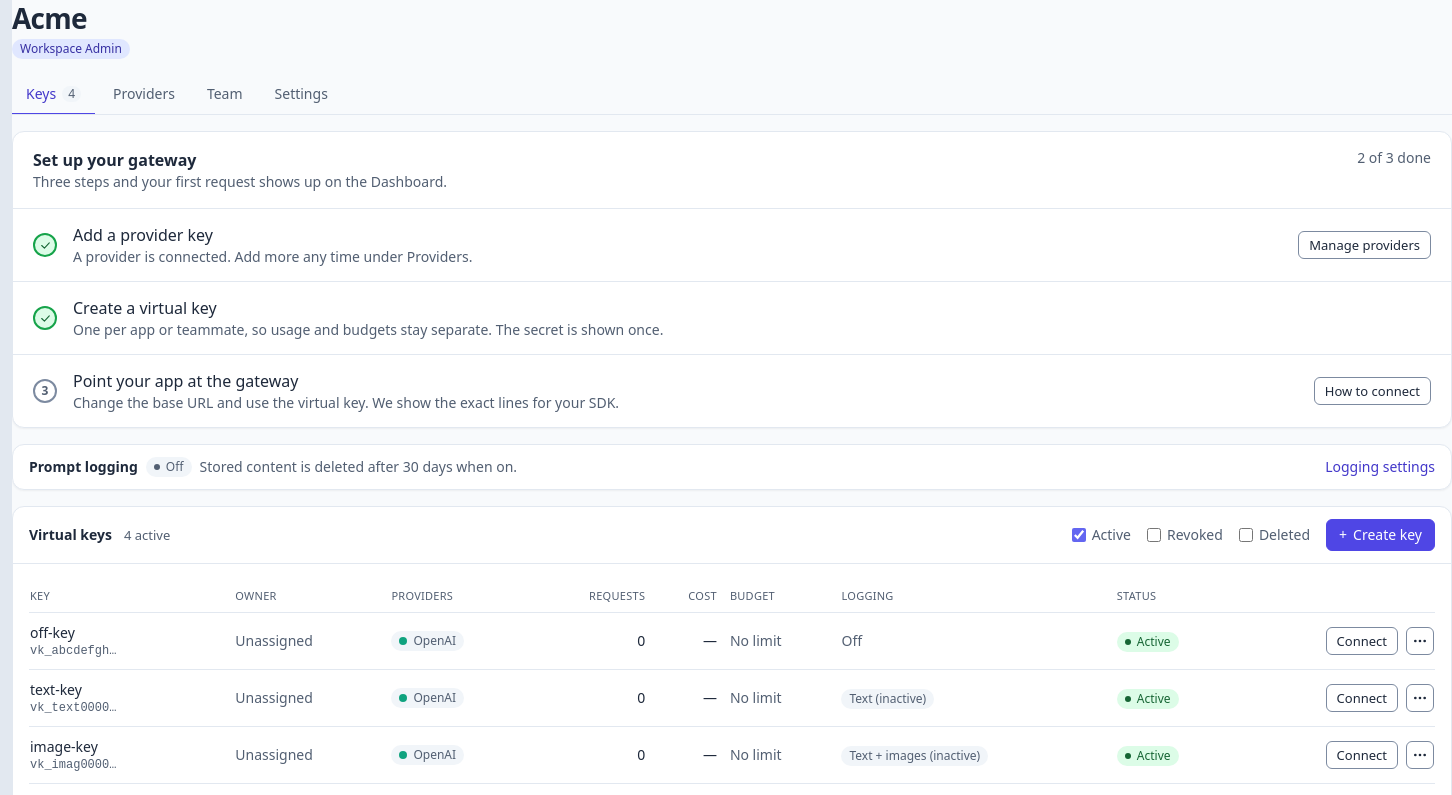
Workspace -> per-key logging › warns inside the editor when a master switch is off, and explains that turning off stops new capture only
Click the button named "More actions for text-key".
click(1420, 698)  # box top-left (1406, 684), bottom-right (1434, 712)
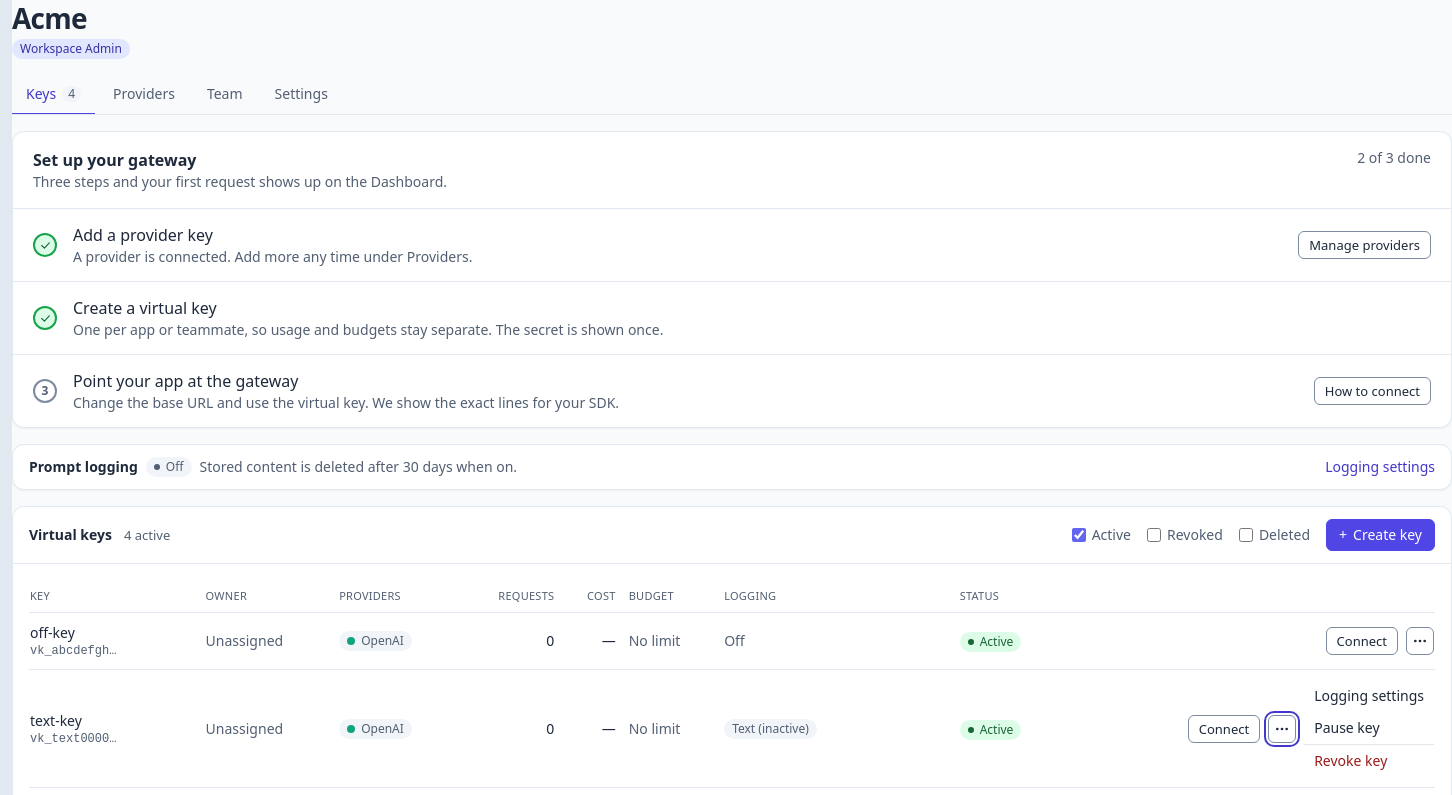
Click the menu item "Logging settings".
click(1369, 696)  # box top-left (1314, 686), bottom-right (1424, 705)
(page scrolled)
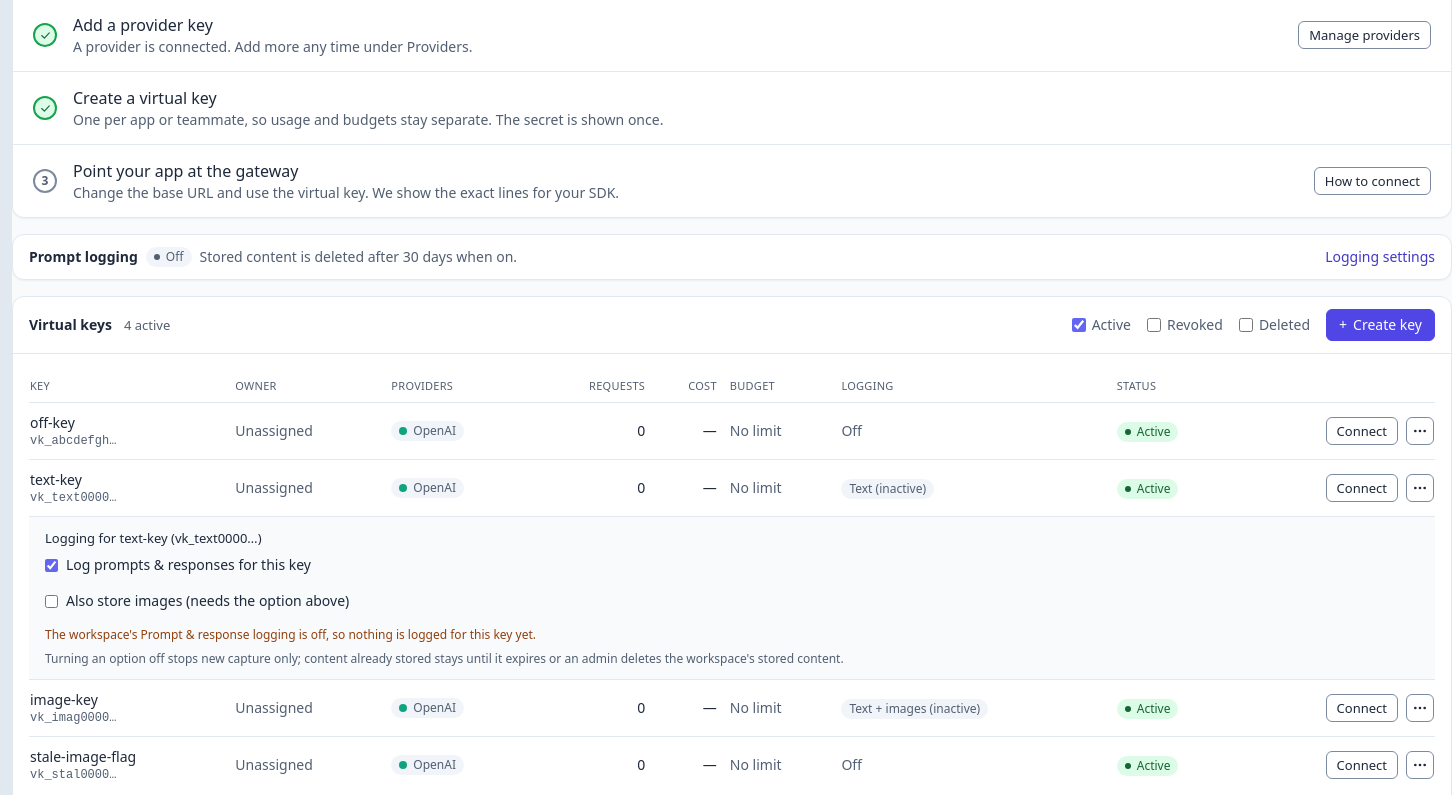
expect the element with test id "key-logging-editor-2" shows "Prompt & response logging is off, so nothing is logged for this key yet": met, box top-left (45, 626), bottom-right (536, 643)
expect the element with test id "key-logging-editor-2" shows "stops new capture only": met, box top-left (45, 650), bottom-right (844, 667)
